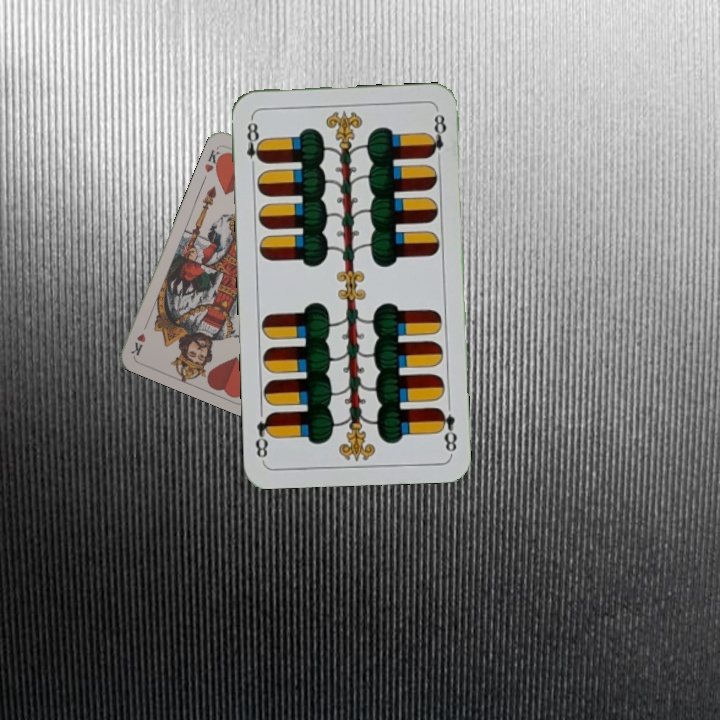E8: (434, 403, 460, 456), (243, 114, 266, 173)
HK: (201, 142, 226, 175)
